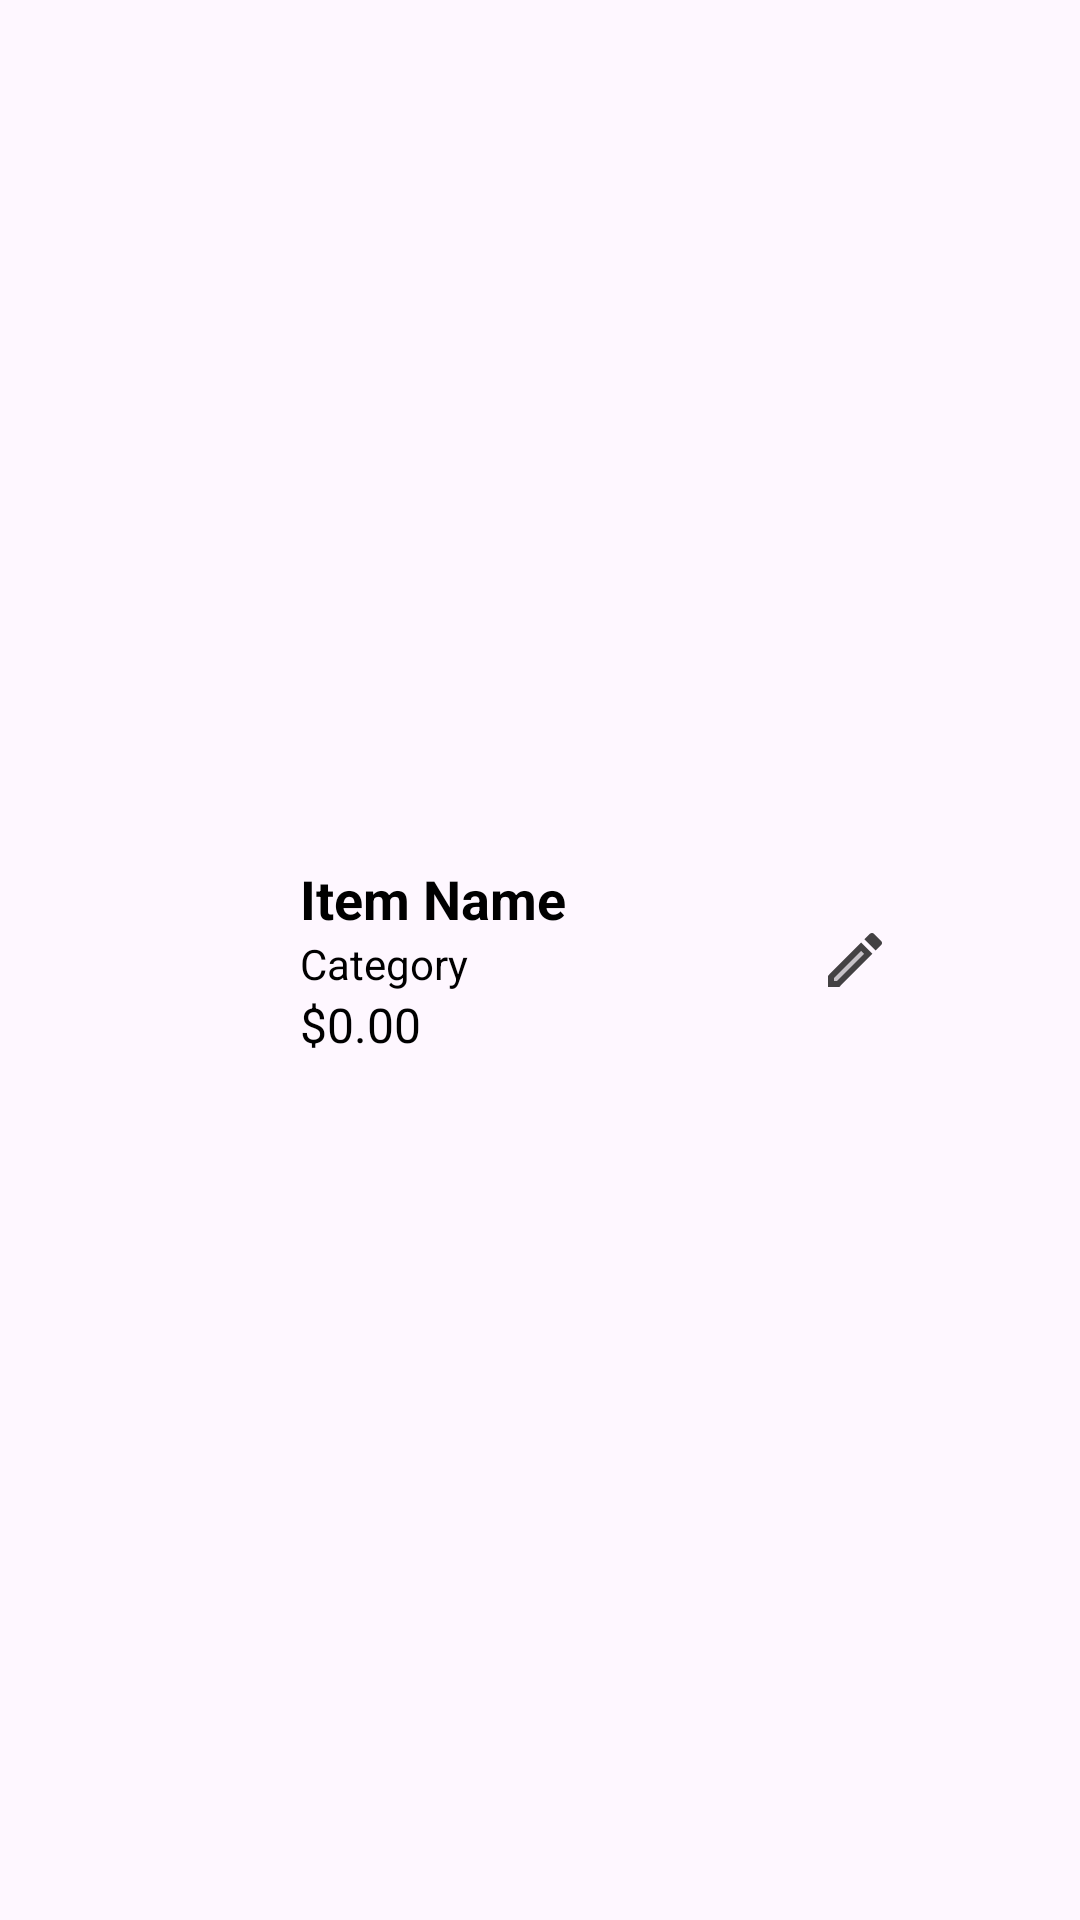

Point at icon controls on the screen. Image size 1080w x 1920h, points as (x=x, y=y).
Edit: (x=855, y=960)
